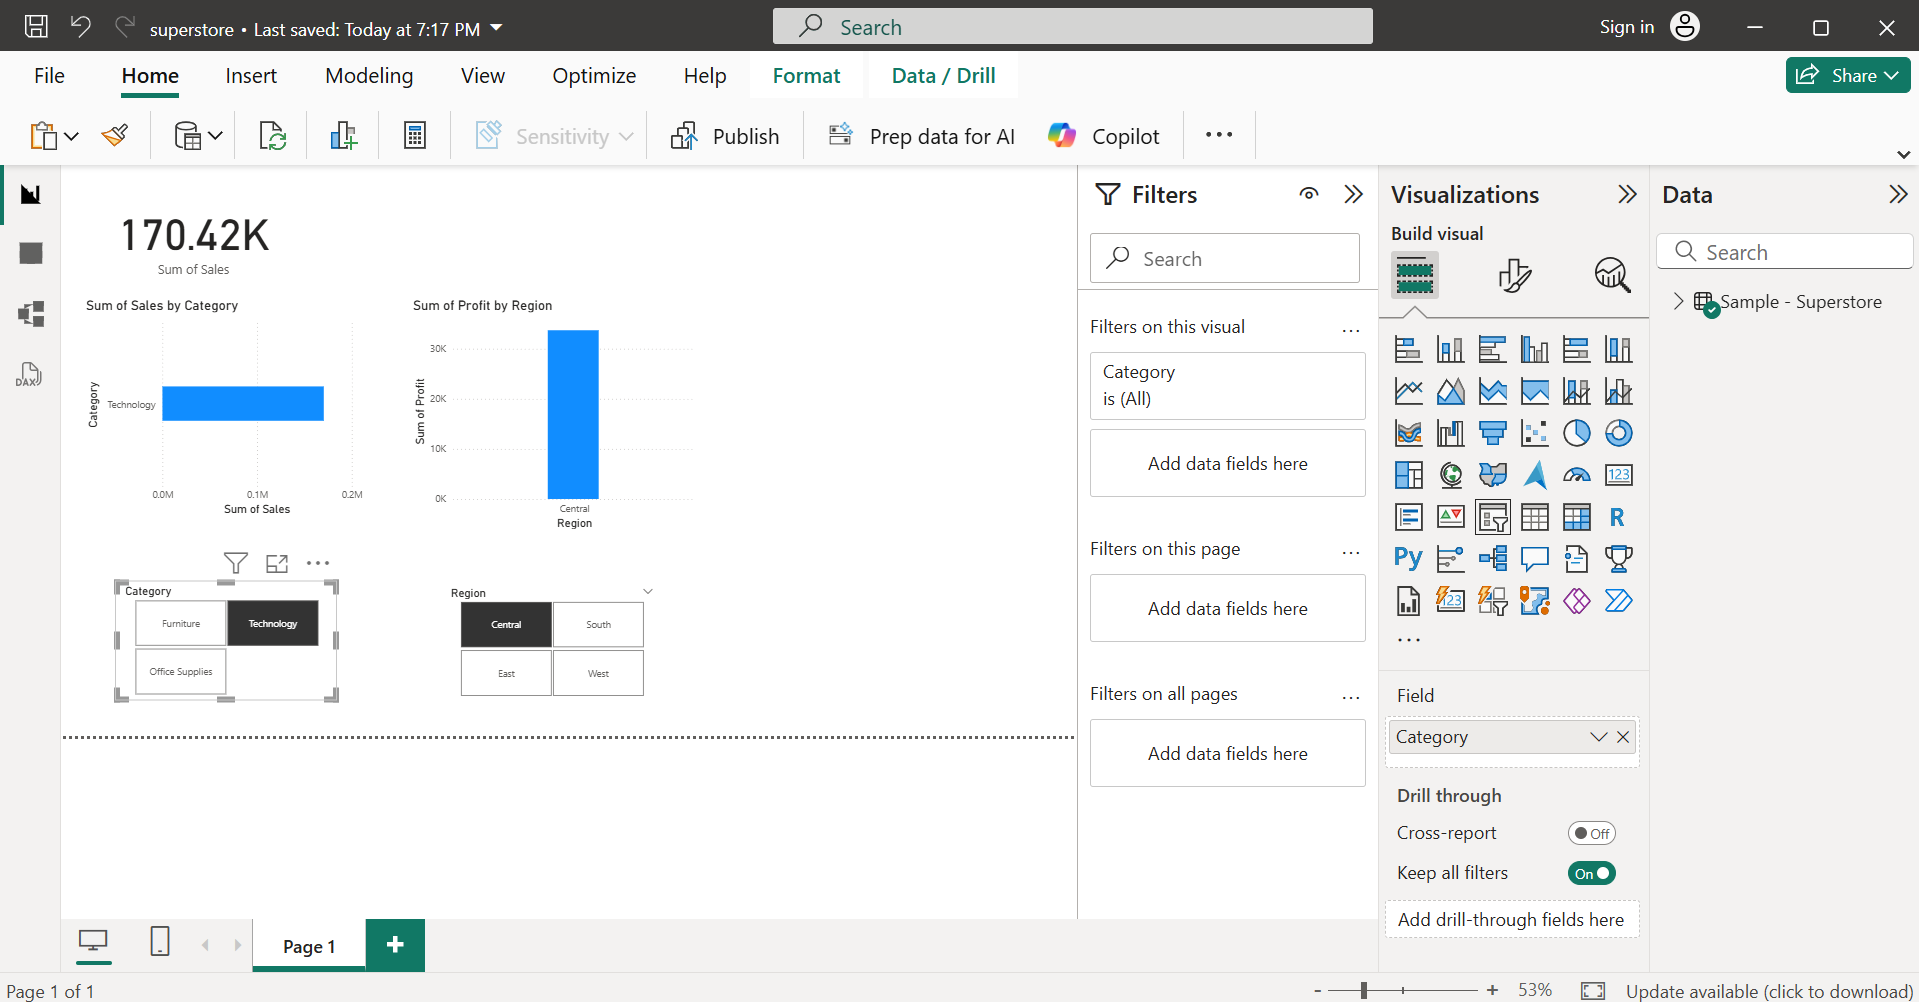

The dashboard page shown, as its layout file describes it:
{"tool":"powerbi","page":{"name":"Page 1","canvas":[1280,720],"ordinal":0},"visuals":[{"type":"barChart","fields":{"Category":["Sample - Superstore.Category"],"Y":["Sum(Sample - Superstore.Sales)"]},"box":[27.1,167.1,358.6,280],"z":0},{"type":"columnChart","fields":{"Category":["Sample - Superstore.Region"],"Y":["Sum(Sample - Superstore.Profit)"]},"box":[438.6,167.1,365.7,297.1],"z":1000},{"type":"card","fields":{"Values":["Sum(Sample - Superstore.Sales)"]},"box":[27.1,17.1,280,150],"z":2000},{"type":"slicer","fields":{"Values":["Sample - Superstore.Category"]},"box":[67.1,524.3,280,150],"z":3000},{"type":"slicer","fields":{"Values":["Sample - Superstore.Region"]},"box":[478.6,525.7,280,150],"z":4000}]}

Visuals, with their boxes on the page's 1280x720 design canvas (x1, y1, x2, y2). These are canvas units, not pixel positions in the 1919x1002 screenshot, which may show the page scaled, cropped or inside an application window:
barChart - Sample - Superstore.Category x Sum(Sample - Superstore.Sales): 27 167 386 447
columnChart - Sample - Superstore.Region x Sum(Sample - Superstore.Profit): 439 167 804 464
card - Sum(Sample - Superstore.Sales): 27 17 307 167
slicer - Sample - Superstore.Category: 67 524 347 674
slicer - Sample - Superstore.Region: 479 526 759 676
